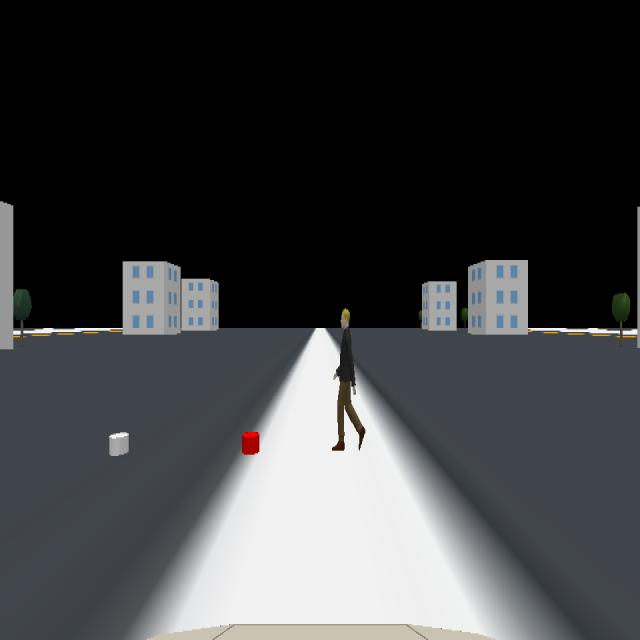human: (332, 307, 366, 452)
